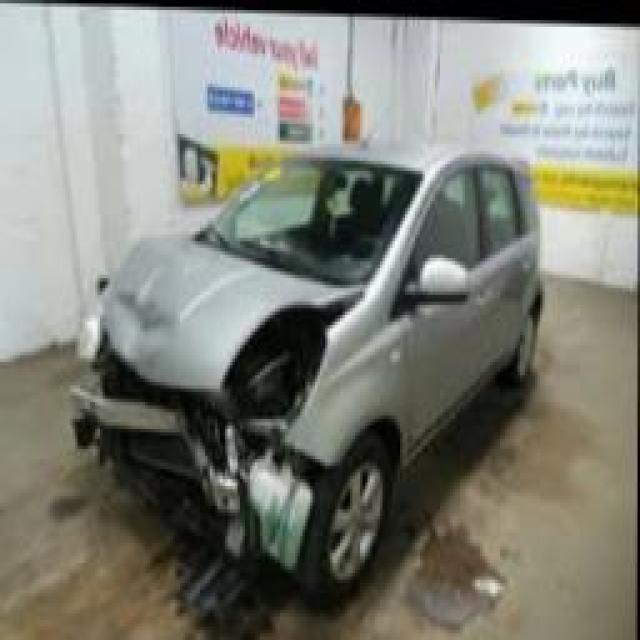Bonnet: (86, 224, 363, 408)
Bumper: (66, 372, 314, 585)
